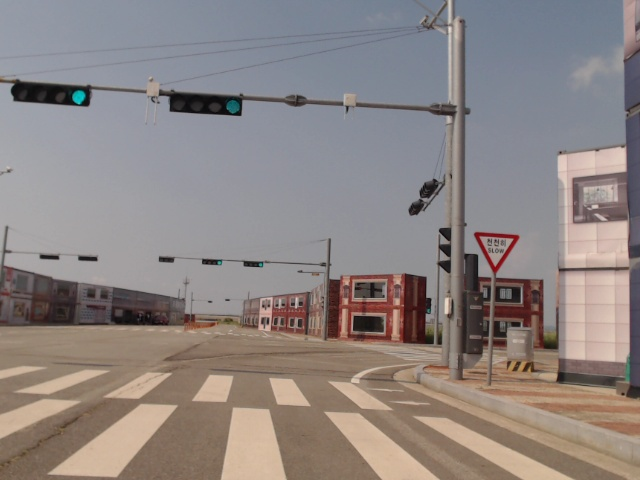straight_green_4: (11, 82, 90, 105), (168, 94, 243, 117), (200, 260, 223, 267), (243, 262, 263, 267)
